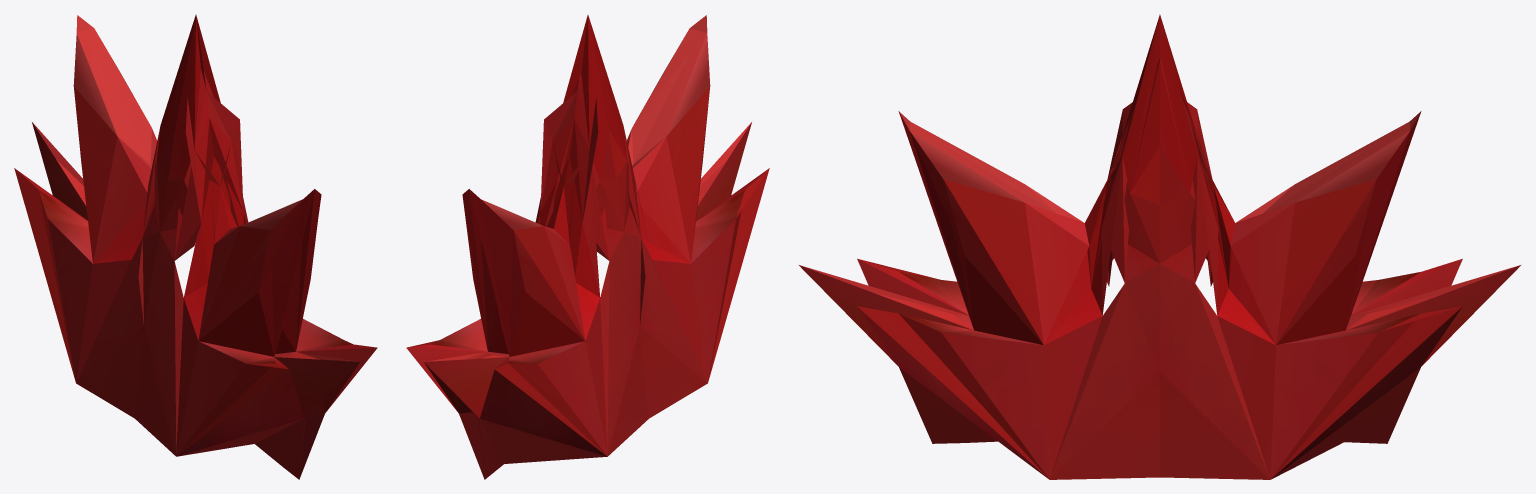
File: hairstyle_014.glb
3 views of the same model, side by side, from view 1: azimuth 30°, elevation 25°; view 2: azimuth 150°, elevation 25°; view 3: azimuth 270°, elevation 25° (orthographic). The views are drawn at different scales.
Visible parts, largest first — view 1: geometry_0_014; view 2: geometry_0_014; view 3: geometry_0_014.
Part boxes in pixels (x1,y1,x2,y2): geometry_0_014: [14, 14, 377, 479]; geometry_0_014: [406, 15, 769, 479]; geometry_0_014: [799, 14, 1520, 479].
Size of the model in its own units: 0.2003 by 0.5351 by 0.8166.
Materials: 1 (1 with a texture image).
